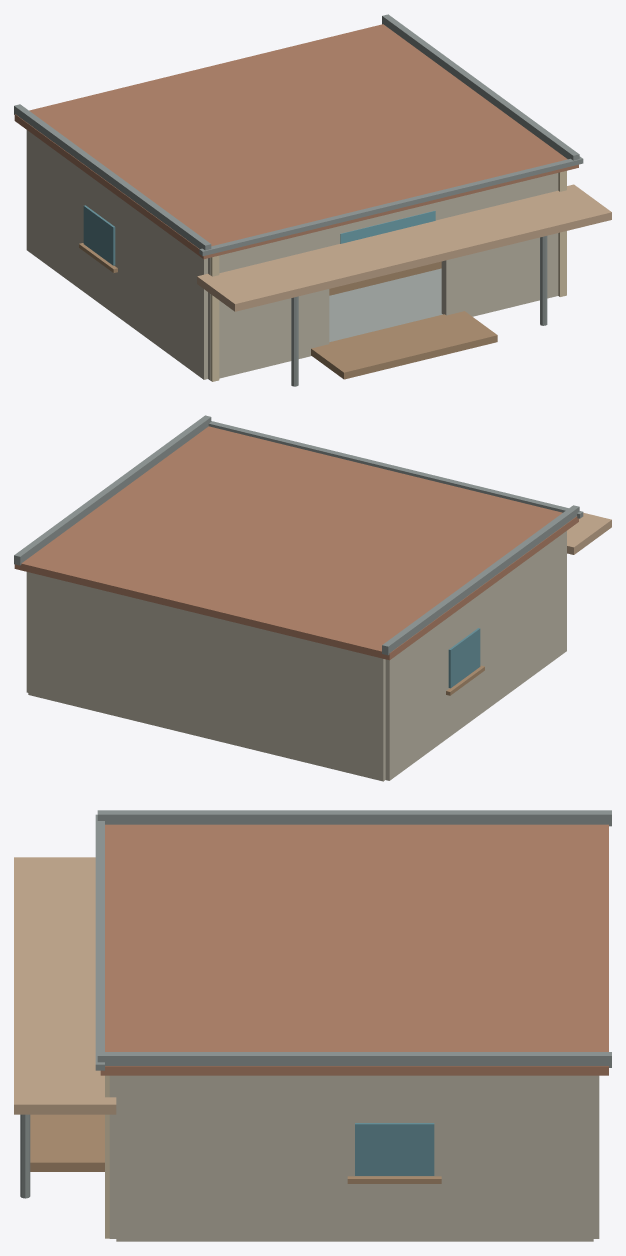
Rendered from renovated_shop.glb.
3 views of the same model, one above another, from view 1: azimuth 30°, elevation 25°; view 2: azimuth 150°, elevation 25°; view 3: azimuth 270°, elevation 25° (orthographic). The views are drawn at different scales.
Visible parts, largest first — view 1: roof deck.002, WALL_side masonry.004, market awning valance, WALL_entrance pier.004, WALL_entrance pier.005, porch landing.002, FLOOR_repaired slab.002, front rain gutter.002, roof edge.005, roof edge.004, side reused window.004, WALL_door lintel.002 (+6 smaller); view 2: roof deck.002, WALL_rear masonry.002, WALL_side masonry.004, roof edge.005, roof edge.004, front rain gutter.002, side reused window.004, market awning valance; view 3: roof deck.002, WALL_side masonry.005, market awning valance, roof edge.004, roof edge.005, porch landing.002, side reused window.005, front rain gutter.002, WALL_entrance pier.005, WALL_rear masonry.002, awning support.001, side window sill.005 (+1 smaller).
Part boxes in pixels (x1,y1,x2,y2): roof deck.002: [14, 24, 578, 259]; WALL_side masonry.004: [26, 130, 207, 379]; market awning valance: [197, 184, 611, 311]; WALL_entrance pier.004: [208, 229, 329, 380]; WALL_entrance pier.005: [441, 173, 558, 316]; porch landing.002: [311, 311, 497, 379]; FLOOR_repaired slab.002: [329, 268, 442, 341]; front rain gutter.002: [199, 156, 583, 256]; roof edge.005: [382, 14, 579, 160]; roof edge.004: [14, 104, 211, 250]; side reused window.004: [83, 205, 115, 265]; WALL_door lintel.002: [329, 200, 446, 246]; roof deck.002: [14, 426, 578, 660]; WALL_rear masonry.002: [28, 572, 385, 781]; WALL_side masonry.004: [385, 531, 566, 780]; roof edge.005: [14, 415, 211, 565]; roof edge.004: [382, 505, 579, 655]; front rain gutter.002: [208, 421, 583, 518]; side reused window.004: [448, 628, 480, 688]; market awning valance: [567, 512, 611, 554]; roof deck.002: [100, 824, 608, 1075]; WALL_side masonry.005: [116, 1075, 593, 1241]; market awning valance: [14, 857, 116, 1114]; roof edge.004: [97, 810, 611, 826]; roof edge.005: [97, 1052, 611, 1067]; porch landing.002: [30, 1114, 104, 1171]; side reused window.005: [355, 1123, 434, 1175]; front rain gutter.002: [95, 814, 104, 1070]; WALL_entrance pier.005: [109, 1075, 116, 1238]; WALL_rear masonry.002: [593, 1075, 599, 1238]; awning support.001: [20, 1114, 30, 1198]; side window sill.005: [347, 1176, 441, 1183].
Bounding box in the file's own units: 10.4 × 3.67 × 10.53.
